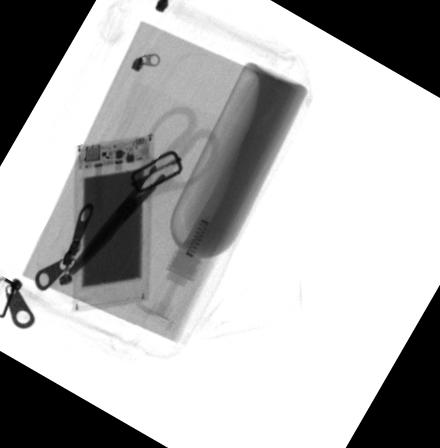Powerbank: (68, 132, 156, 310)
Scissors: (64, 103, 221, 280)
